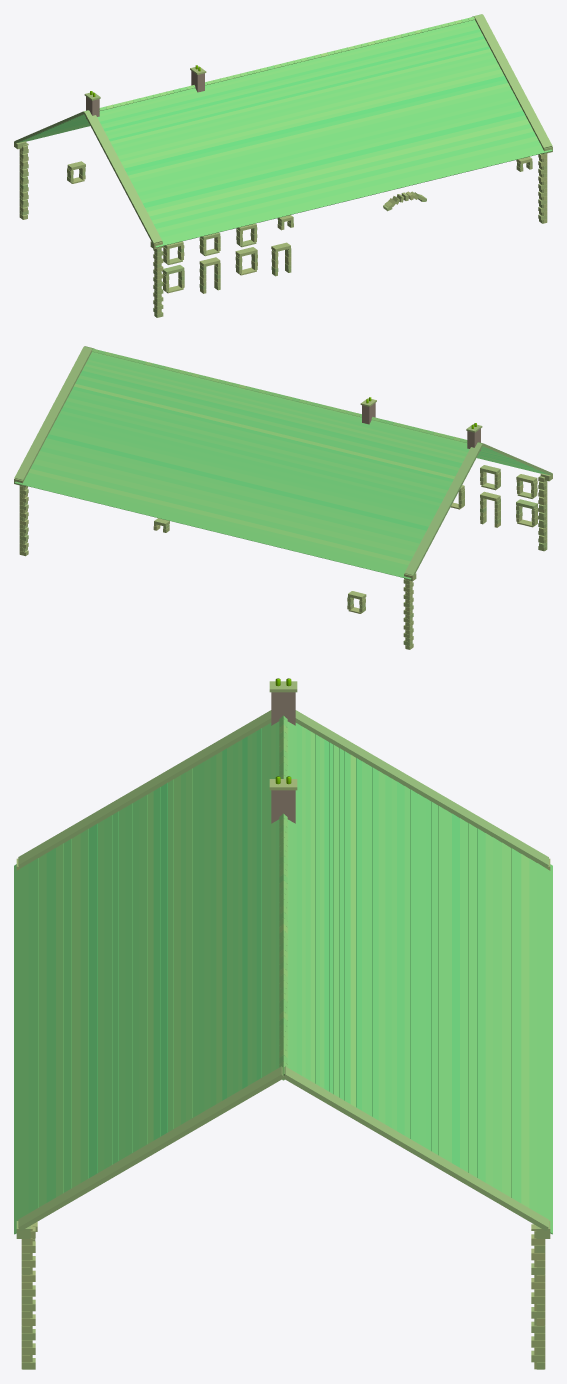
The model's file is SM_Bld_049_Stone.glb.
3 views of the same model, one above another, from view 1: azimuth 30°, elevation 25°; view 2: azimuth 150°, elevation 25°; view 3: azimuth 270°, elevation 25° (orthographic). The views are drawn at different scales.
Parts seen in each view (by area): view 1: SM_Bld_049_Stone; view 2: SM_Bld_049_Stone; view 3: SM_Bld_049_Stone.
Boxes of the visible parts, left/top/right/bottom form: SM_Bld_049_Stone: left=14, top=14, right=552, bottom=317; SM_Bld_049_Stone: left=14, top=346, right=552, bottom=649; SM_Bld_049_Stone: left=14, top=678, right=552, bottom=1369.
Bounding box in the file's own units: 32.72 × 13.65 × 20.11.
